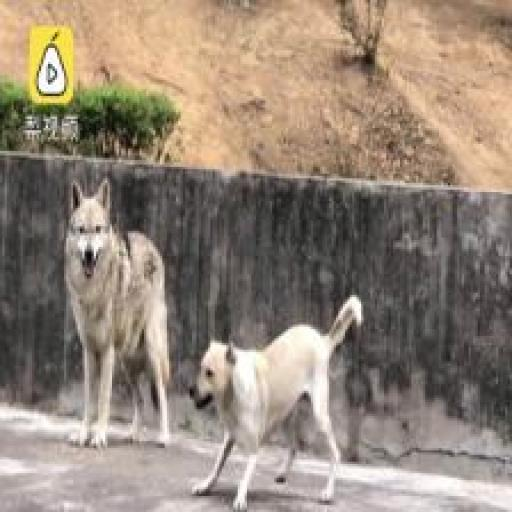wolf: (52, 171, 180, 462)
